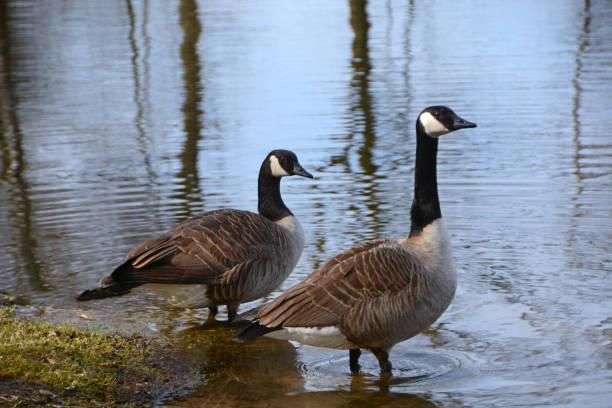Canadian-Goose: (261, 104, 477, 377), (73, 149, 313, 323)
